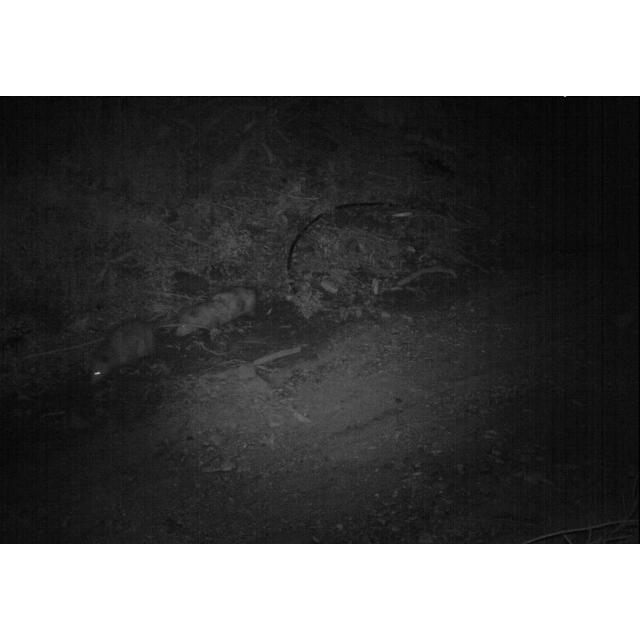animals: (84, 310, 160, 390), (175, 286, 259, 344)
